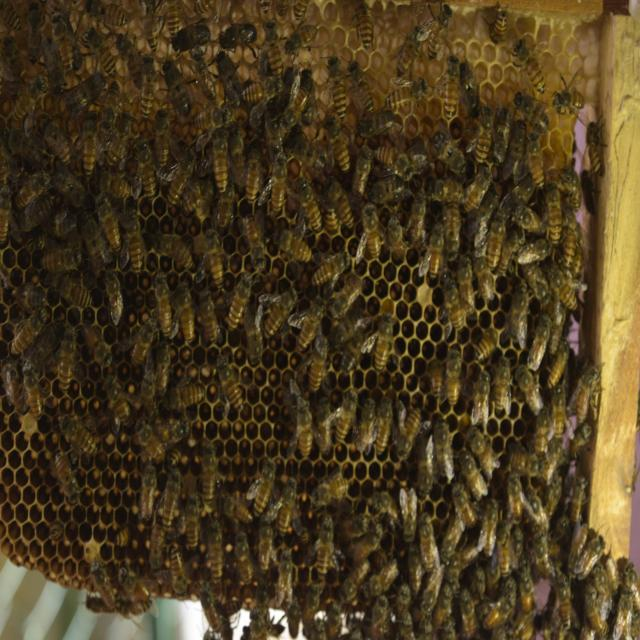honeybee: (510, 36, 550, 94), (37, 114, 77, 171), (8, 306, 52, 354), (347, 58, 379, 123), (163, 51, 194, 118), (394, 16, 427, 78), (7, 73, 51, 119), (104, 107, 137, 168), (116, 560, 157, 608), (66, 67, 106, 116), (216, 351, 244, 418), (156, 232, 198, 276), (56, 413, 100, 455), (84, 26, 118, 80), (80, 210, 107, 278), (324, 54, 349, 126), (430, 132, 470, 177), (576, 360, 603, 426), (248, 457, 278, 516), (132, 0, 166, 52), (284, 65, 312, 128), (103, 373, 135, 428), (51, 8, 78, 73), (81, 0, 136, 31), (225, 270, 252, 333), (287, 131, 328, 172), (284, 20, 326, 60), (265, 286, 298, 336), (262, 18, 289, 79), (153, 268, 176, 339), (82, 322, 116, 370), (54, 450, 85, 502), (124, 207, 146, 280), (581, 111, 606, 175), (512, 94, 552, 134), (549, 265, 583, 312), (215, 19, 258, 56), (173, 276, 196, 345), (167, 151, 195, 207), (206, 514, 229, 582), (160, 378, 207, 411), (467, 428, 498, 478), (24, 359, 48, 422), (297, 178, 324, 234), (576, 531, 608, 578), (431, 1, 456, 61), (463, 167, 493, 217), (98, 193, 122, 255), (327, 176, 355, 229), (215, 47, 239, 108), (88, 554, 116, 606), (395, 405, 423, 457), (192, 46, 218, 102), (459, 59, 482, 122), (239, 73, 284, 105), (374, 144, 419, 176), (297, 298, 324, 351), (583, 587, 610, 640), (203, 225, 226, 287), (332, 389, 357, 446), (324, 115, 349, 172), (54, 276, 98, 308), (57, 328, 78, 395), (290, 395, 313, 456), (23, 192, 58, 232), (315, 512, 335, 582), (331, 278, 366, 318), (118, 31, 142, 89), (518, 361, 544, 414), (362, 559, 399, 596), (16, 172, 52, 210), (442, 275, 466, 332), (509, 285, 529, 353), (81, 109, 99, 184), (198, 291, 222, 347), (372, 310, 394, 371), (526, 134, 549, 192), (440, 512, 466, 563), (234, 527, 256, 587), (306, 339, 330, 394), (311, 253, 351, 286), (1, 32, 22, 94), (386, 77, 428, 108), (245, 305, 266, 366), (273, 229, 314, 260), (138, 140, 158, 203), (492, 104, 512, 167), (527, 316, 549, 373), (245, 216, 267, 273), (140, 50, 158, 119), (443, 53, 460, 126), (507, 122, 527, 184), (548, 82, 592, 110), (55, 172, 89, 208), (277, 476, 298, 534), (168, 546, 190, 601), (154, 102, 172, 169), (157, 0, 185, 43), (548, 346, 573, 394), (200, 438, 218, 504), (128, 320, 155, 364), (175, 18, 212, 50), (423, 555, 443, 614), (116, 592, 154, 623), (138, 464, 157, 526), (342, 558, 370, 600), (356, 0, 379, 51), (162, 463, 180, 528), (314, 395, 332, 460), (376, 391, 394, 456), (436, 418, 454, 483), (452, 483, 478, 528), (510, 198, 544, 232), (4, 362, 25, 417), (474, 106, 494, 163), (425, 220, 444, 280), (479, 497, 498, 557), (518, 239, 556, 269), (342, 328, 367, 373), (499, 231, 524, 276), (418, 431, 434, 501), (230, 126, 248, 188), (223, 490, 253, 527), (38, 249, 82, 274), (570, 422, 592, 472), (372, 174, 405, 207), (531, 533, 554, 580), (442, 203, 462, 257), (545, 472, 565, 526), (560, 206, 577, 269), (153, 342, 174, 393), (525, 266, 551, 307), (26, 0, 42, 66), (464, 453, 486, 501), (456, 589, 478, 637), (154, 419, 193, 446), (548, 172, 562, 247), (191, 104, 233, 129), (484, 596, 514, 631), (399, 487, 416, 548), (14, 283, 51, 311), (526, 492, 550, 535), (136, 422, 163, 460), (352, 142, 370, 199), (445, 347, 462, 407), (418, 514, 436, 570), (363, 207, 382, 260), (496, 519, 513, 578), (368, 594, 390, 639), (264, 115, 285, 162), (105, 266, 122, 324), (358, 395, 375, 453), (246, 146, 263, 204), (556, 576, 574, 630), (384, 212, 406, 256), (565, 162, 585, 210), (489, 212, 504, 276), (270, 154, 286, 214), (410, 187, 428, 240), (84, 592, 118, 620), (315, 478, 353, 503), (473, 371, 489, 430), (0, 183, 14, 250), (256, 522, 274, 574), (49, 212, 80, 242), (199, 590, 220, 634), (214, 130, 228, 196), (432, 174, 465, 202), (476, 262, 498, 304), (278, 548, 295, 602), (459, 258, 476, 312), (139, 364, 155, 421), (475, 324, 499, 362), (496, 357, 513, 410), (624, 560, 640, 615), (508, 452, 545, 475), (186, 491, 200, 551), (259, 608, 287, 638), (507, 471, 522, 527), (570, 474, 586, 526), (519, 570, 537, 616), (616, 589, 632, 640), (490, 6, 510, 46), (100, 175, 132, 200), (434, 582, 454, 622), (536, 405, 552, 454), (0, 0, 22, 32), (153, 523, 166, 577), (553, 386, 566, 440), (429, 357, 444, 400), (218, 596, 245, 618), (550, 314, 564, 356), (246, 605, 263, 639), (288, 596, 301, 638), (408, 556, 422, 595), (326, 197, 341, 233), (471, 567, 486, 600), (194, 0, 216, 20), (399, 582, 411, 618), (294, 0, 310, 23), (440, 619, 456, 640), (258, 0, 273, 20), (276, 0, 291, 20)
